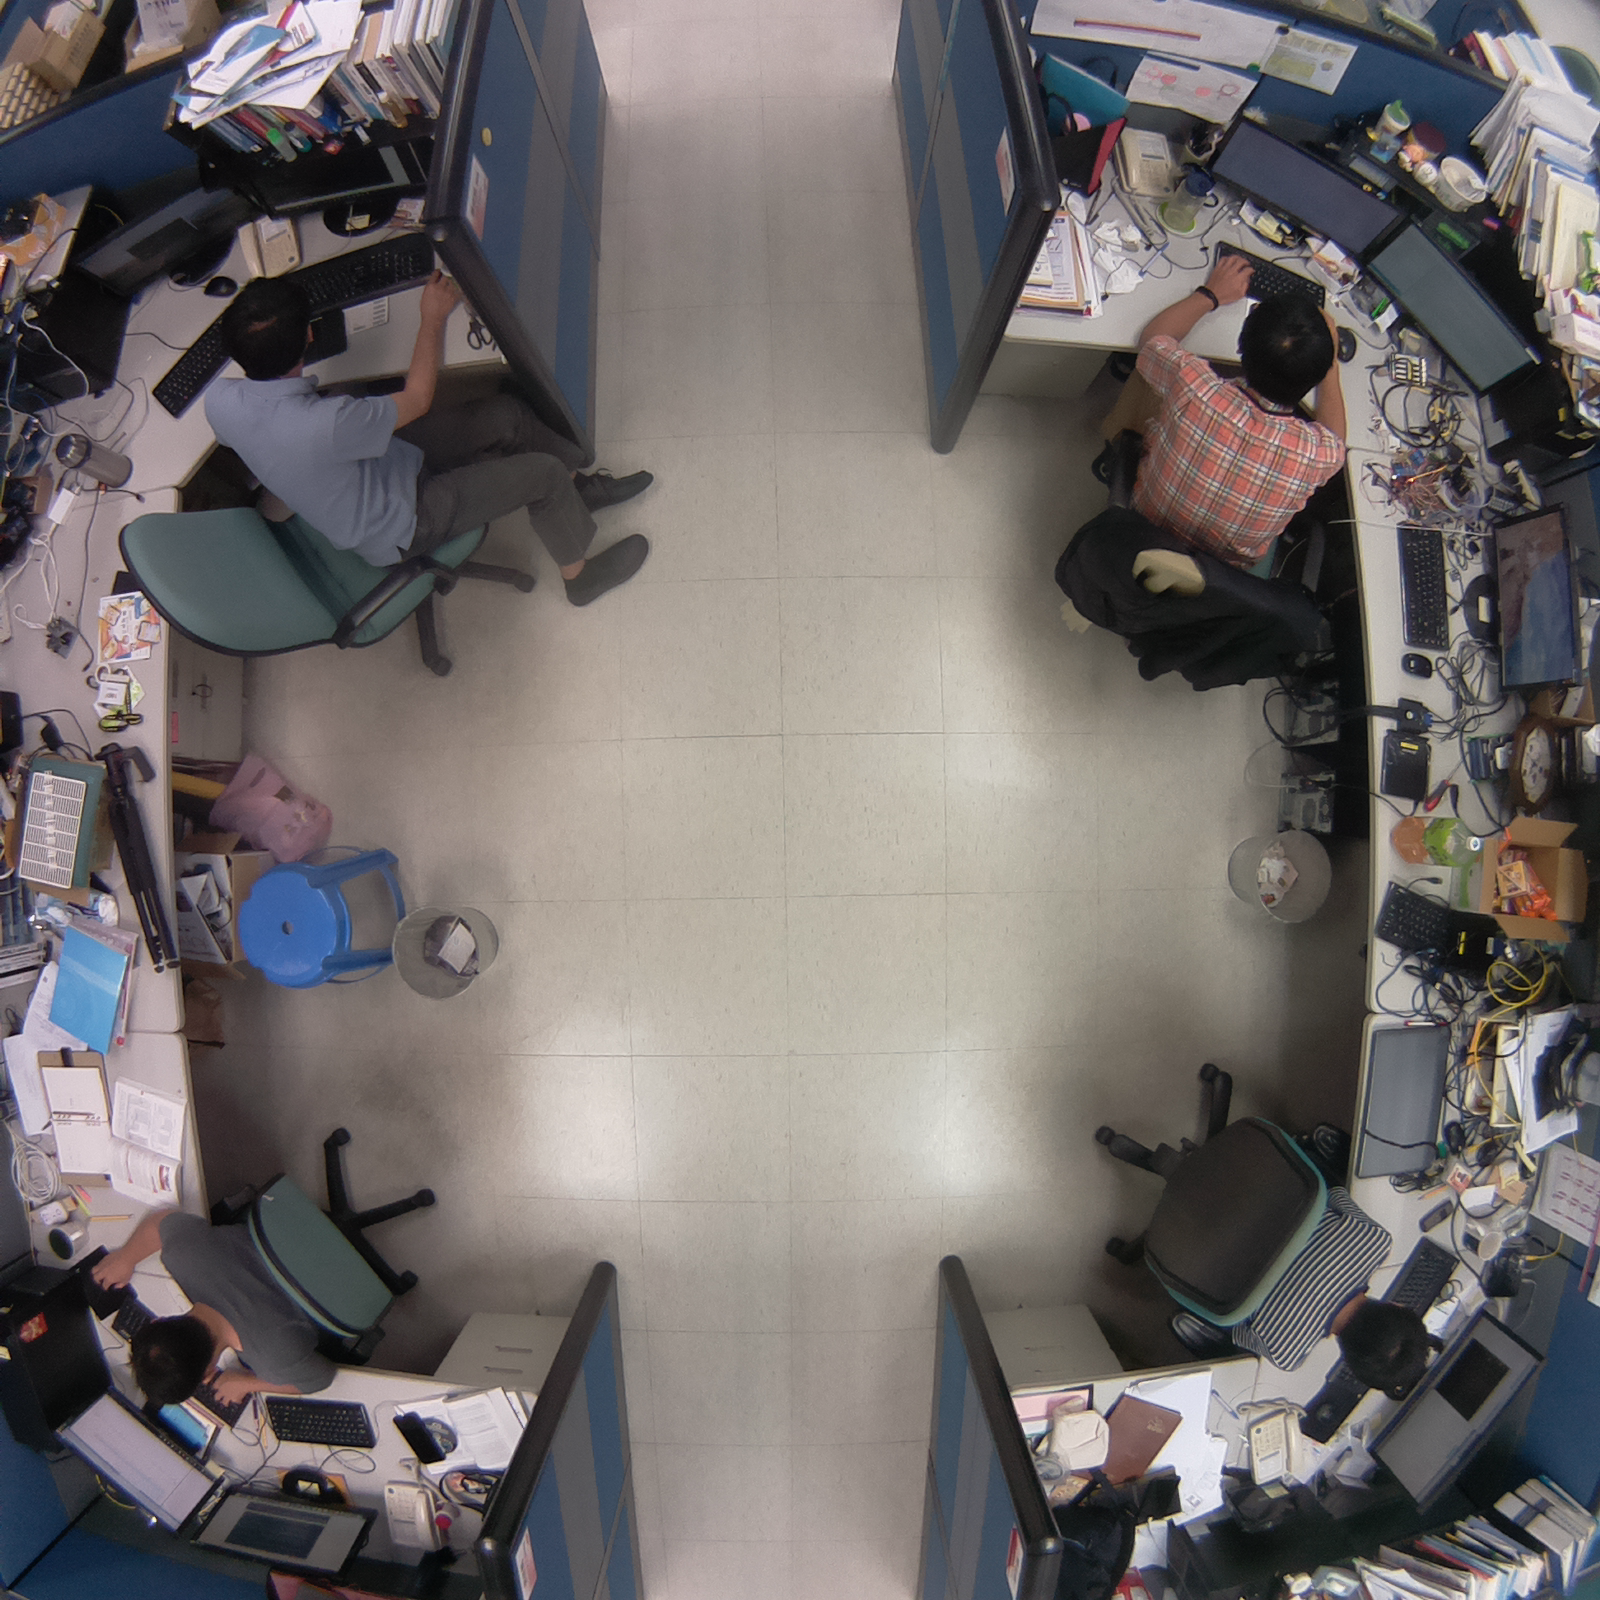head: (1234, 285, 1346, 414), (212, 260, 330, 383), (1330, 1289, 1442, 1405), (121, 1303, 232, 1411)
sitting: (112, 258, 665, 683), (1027, 229, 1373, 717), (1076, 1037, 1450, 1401), (91, 1122, 453, 1424)
